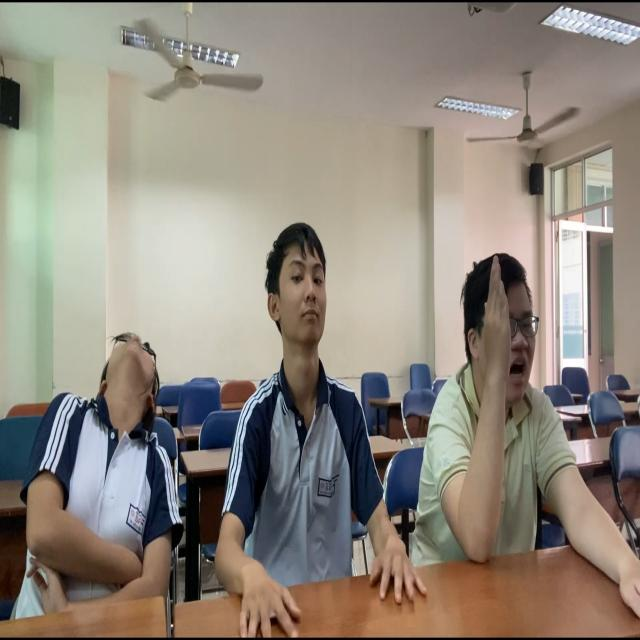raise_hand: (425, 251, 571, 577)
